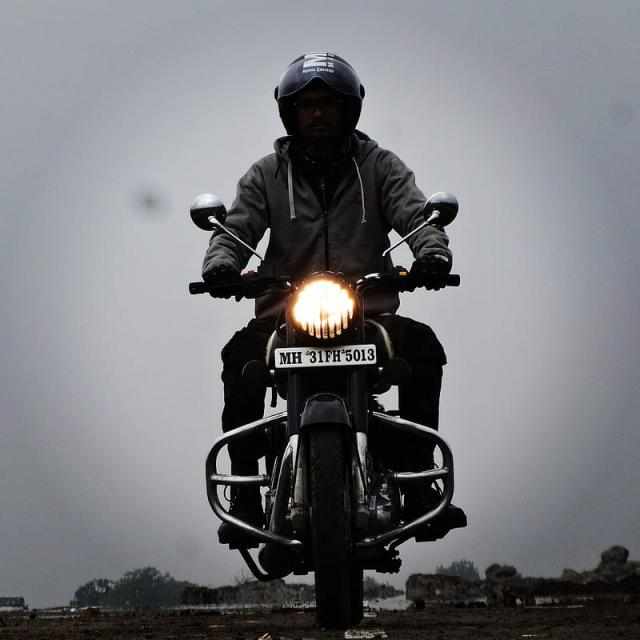number plate: (273, 343, 378, 367)
